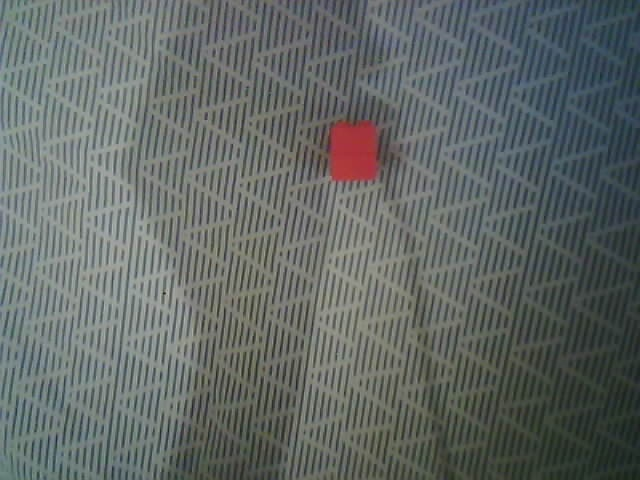lego: (329, 119, 379, 181)
